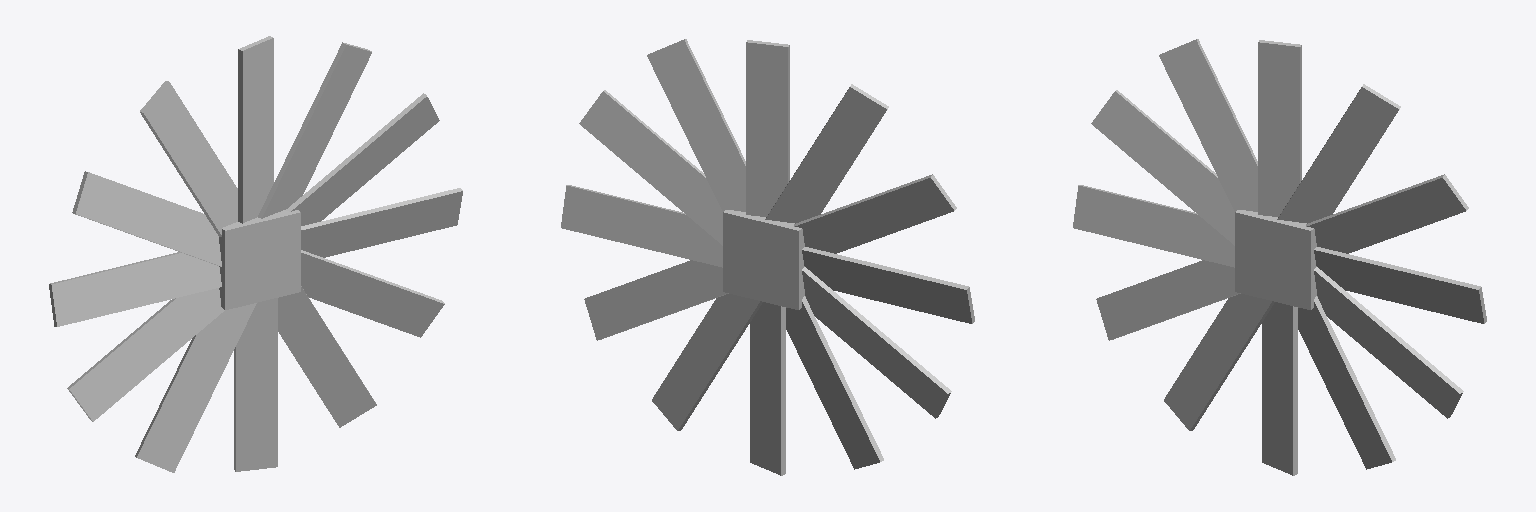
The model's file is turbine_hydro_nanofiber.obj.
The picture shows the model from 3 angles: view 1: azimuth 30°, elevation 25°; view 2: azimuth 150°, elevation 25°; view 3: azimuth 330°, elevation 25°; orthographic projection.
Parts seen in each view (by area): view 1: base.009, base.010, base.008, base.011, base, base.007, base.005, base.006, base.012, base.002, base.001, base.004 (+1 smaller); view 2: base.005, base.004, base.003, base.001, base, base.006, base.007, base.008, base.002, base.012, base.011, base.009 (+1 smaller); view 3: base.005, base.006, base.007, base.008, base, base.004, base.003, base.001, base.009, base.010, base.011, base.002 (+1 smaller).
Part boxes in pixels (x1,y1,x2,y2): base.009: (67, 288, 224, 421); base.010: (135, 303, 256, 472); base.008: (49, 252, 221, 326); base.011: (234, 298, 277, 471); base: (219, 210, 300, 309); base.007: (72, 171, 221, 266); base.005: (238, 36, 273, 223); base.006: (140, 81, 237, 236); base.012: (278, 286, 376, 427); base.002: (301, 250, 444, 337); base.001: (301, 188, 462, 257); base.004: (258, 42, 371, 218); base.005: (746, 40, 789, 216); base.004: (647, 39, 745, 211); base.003: (579, 90, 722, 245); base.001: (561, 185, 722, 267); base: (723, 210, 805, 309); base.006: (765, 84, 888, 223); base.007: (794, 174, 956, 253); base.008: (802, 247, 974, 323); base.002: (584, 260, 728, 340); base.012: (652, 294, 762, 430); base.011: (750, 302, 785, 475); base.009: (802, 267, 951, 418); base.005: (1258, 40, 1301, 216); base.006: (1159, 39, 1257, 211); base.007: (1091, 90, 1234, 245); base.008: (1073, 185, 1234, 267); base: (1235, 210, 1317, 309); base.004: (1277, 84, 1400, 223); base.003: (1306, 174, 1468, 253); base.001: (1314, 247, 1486, 323); base.009: (1096, 260, 1240, 340); base.010: (1164, 294, 1274, 430); base.011: (1262, 302, 1297, 475); base.002: (1314, 267, 1463, 418).
Bounding box in the file's own units: 3.2 × 3.2 × 0.2.